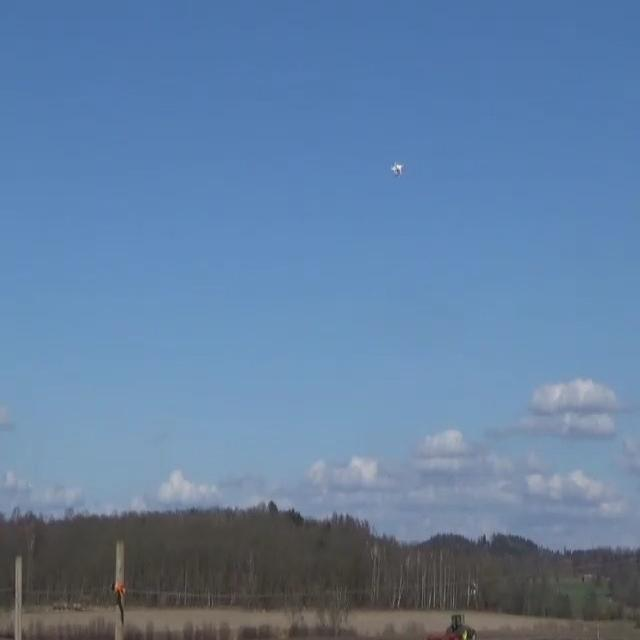drone: (390, 160, 403, 176)
